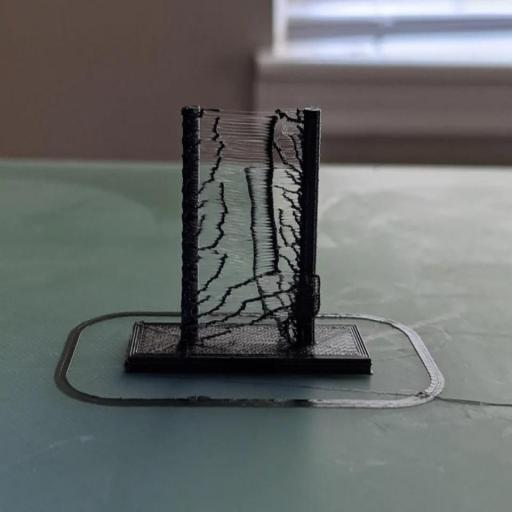stringing: (200, 106, 303, 346)
